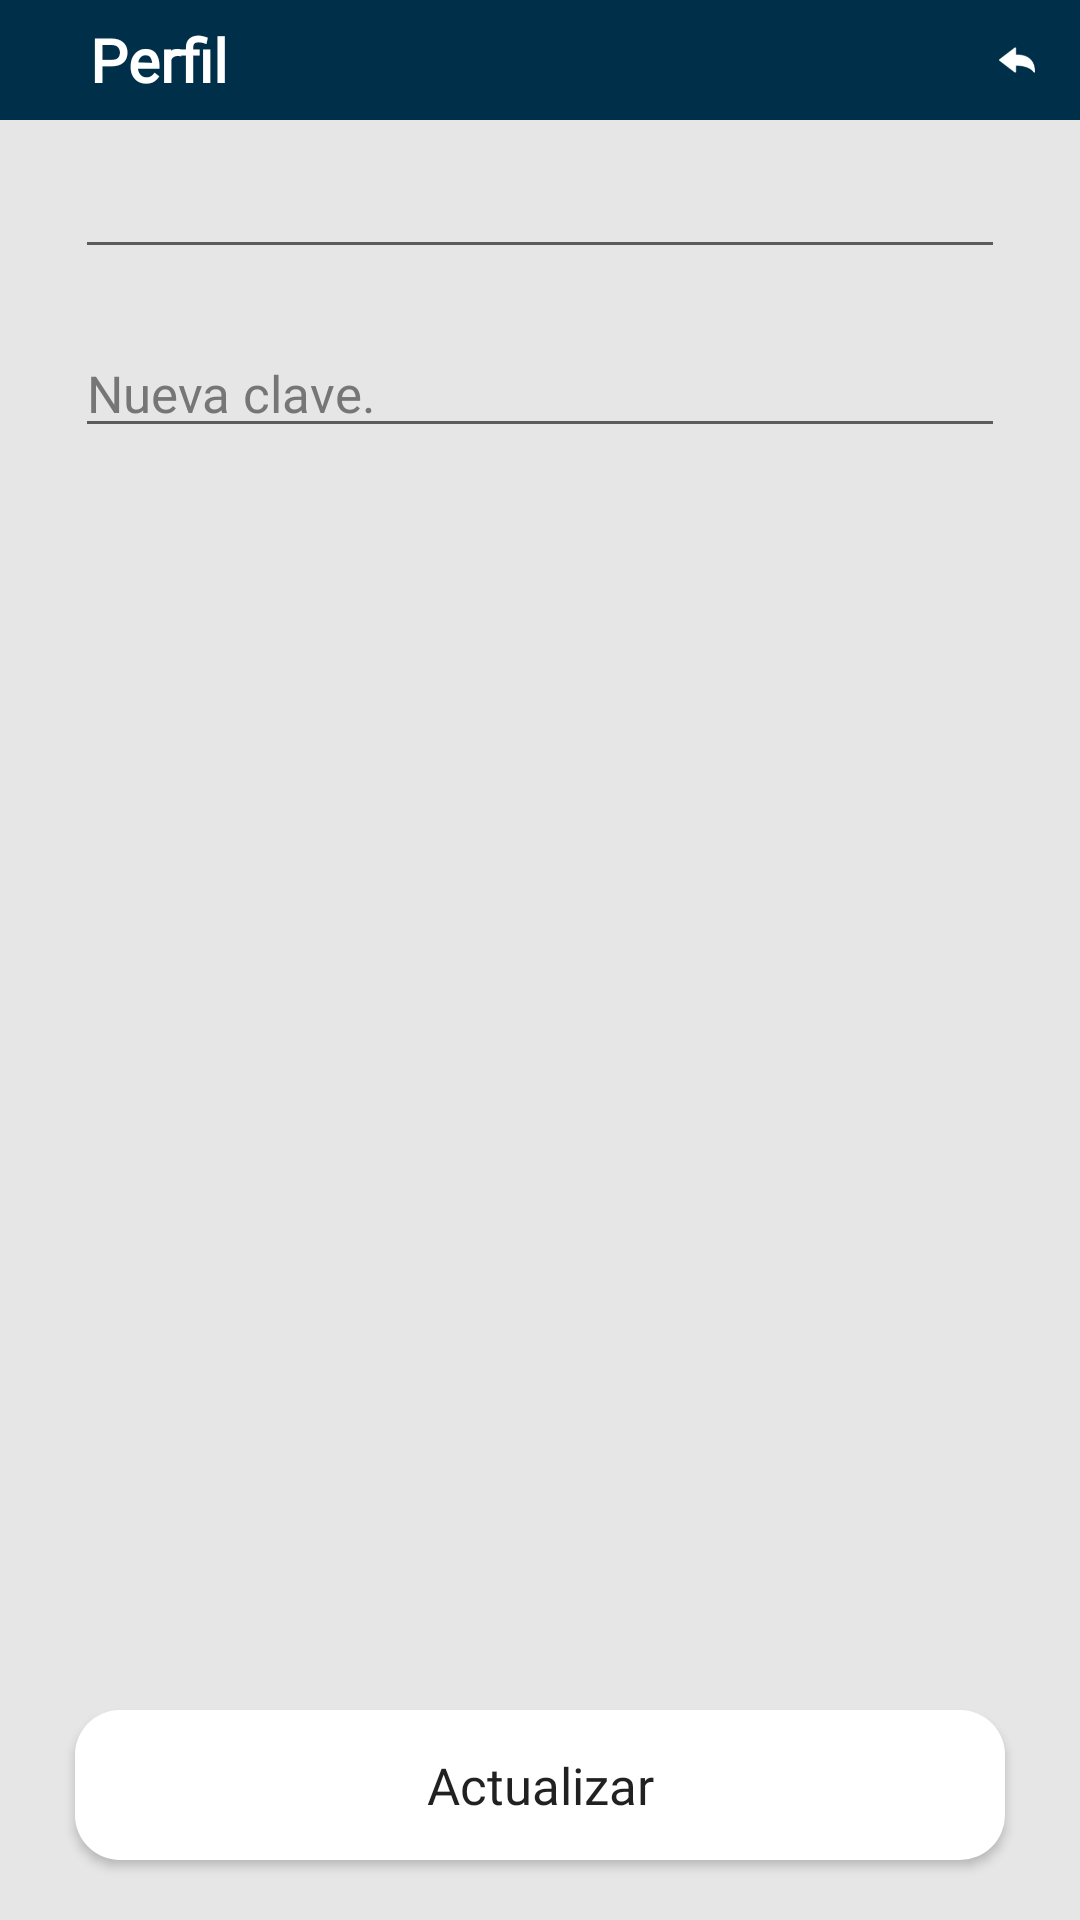

Point at icon controls on the screen. Image size 1080*1920, points as (x,y).
back: (1017,60)
